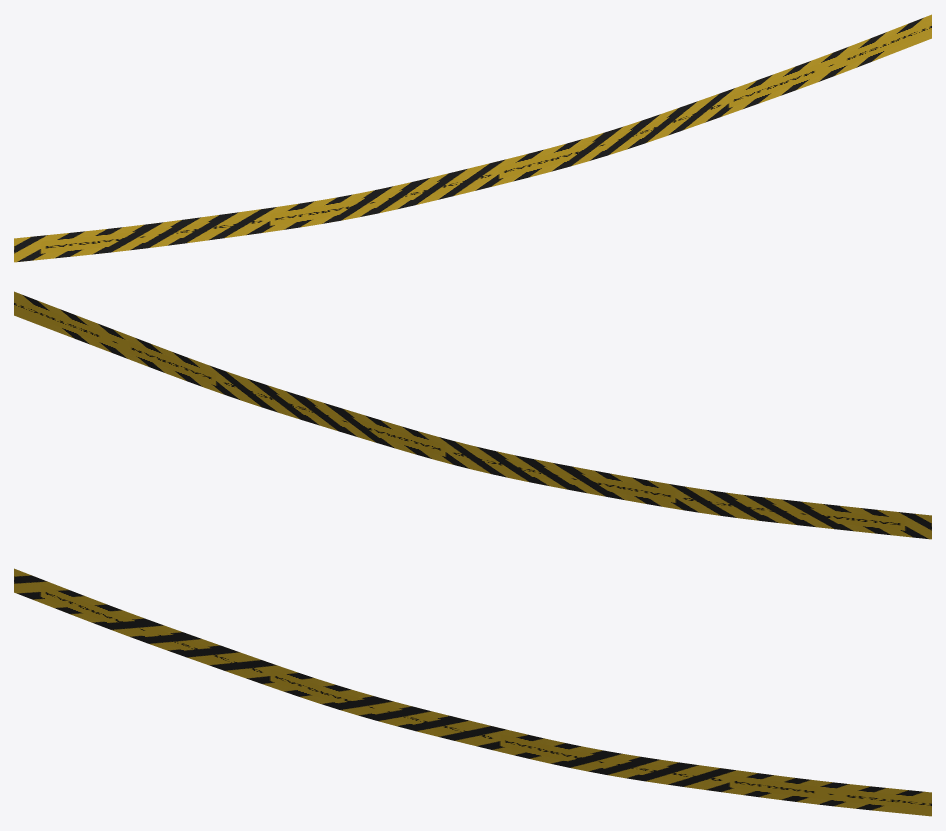
Rendered from tape.glb.
3 renders of one model, top to bottom at view 1: azimuth 30°, elevation 25°; view 2: azimuth 150°, elevation 25°; view 3: azimuth 330°, elevation 25°, orthographic.
Parts seen in each view (by area): view 1: VIS_Caution_Tape; view 2: VIS_Caution_Tape; view 3: VIS_Caution_Tape.
Part boxes in pixels (box(x1,y1,x2,y2)): VIS_Caution_Tape: box(14, 14, 931, 262); VIS_Caution_Tape: box(14, 291, 931, 539); VIS_Caution_Tape: box(14, 568, 931, 816).
Bounding box in the file's own units: 3 × 0.205 × 0.00758.
1 material, 1 textured.
